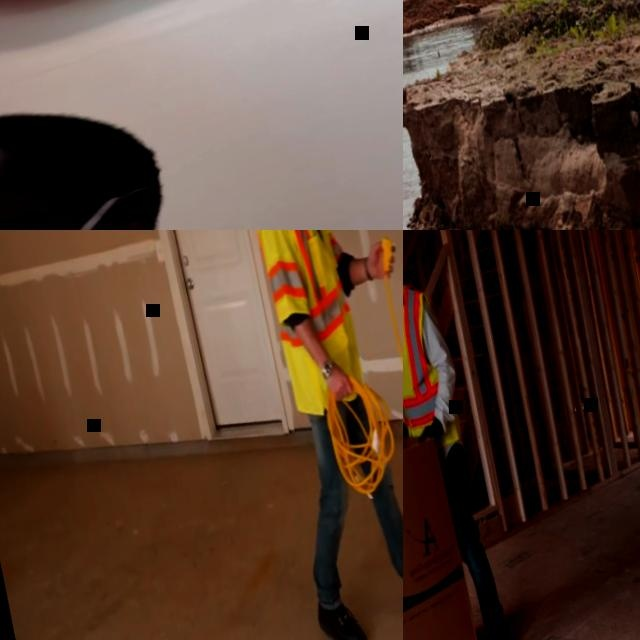NO-Hardhat: (0, 84, 143, 207)
Person: (0, 19, 403, 230), (203, 230, 403, 640), (403, 230, 522, 640)
Safety Vest: (243, 230, 363, 362), (403, 271, 472, 467)
